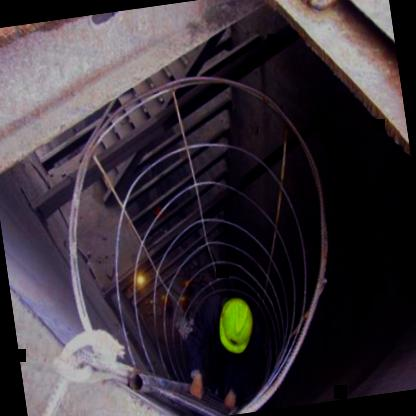helmet: (213, 292, 258, 354)
